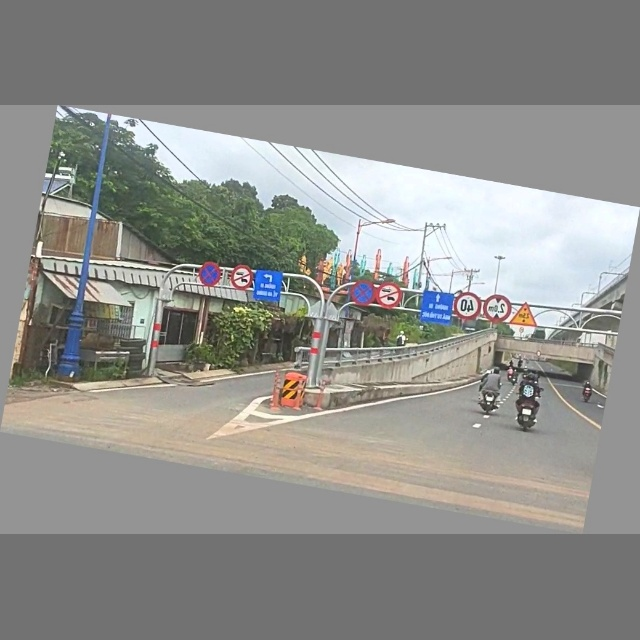P.107: (374, 281, 406, 312), (227, 262, 256, 293)
P.117*: (481, 293, 515, 326)
P.127*40: (452, 290, 483, 323)
P.130: (346, 277, 379, 309), (196, 260, 222, 289)
W.239b*: (510, 300, 542, 329)
